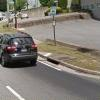Car: (0, 25, 42, 73)
